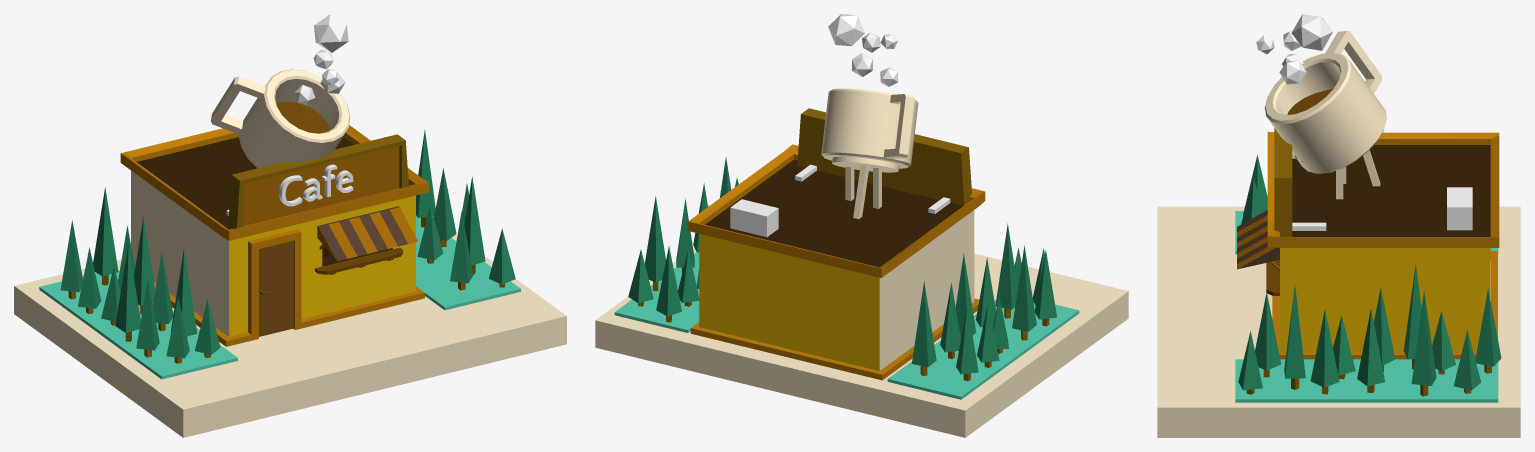
The picture shows the model from 3 angles, left to right: view 1: azimuth 30°, elevation 25°; view 2: azimuth 150°, elevation 25°; view 3: azimuth 270°, elevation 25°; orthographic projection. The views are drawn at different scales.
Visible parts, largest first — view 1: pCube66, pCube67, pCube65, pCylinder7, pCube70, pCube45, pCube68, pCube42, pCube63, pCube46, typeMesh2, pPyramid24 (+19 smaller); view 2: pCube67, pCube66, pCylinder7, pCube65, pCube70, pCube45, pCube68, pCube63, pCube62, pPyramid16, pPyramid24, pPyramid3 (+13 smaller); view 3: pCube66, pCube67, pCylinder7, pCube63, pCube70, pCube65, pCube42, pPyramid3, pCube68, pPyramid14, pPyramid5, pPyramid13 (+15 smaller).
Boxes of the visible parts, x1=… form: pCube66: x1=14, y1=234, x2=566, y2=437; pCube67: x1=131, y1=136, x2=415, y2=336; pCube65: x1=228, y1=134, x2=408, y2=229; pCylinder7: x1=211, y1=69, x2=350, y2=168; pCube70: x1=120, y1=125, x2=428, y2=240; pCube45: x1=39, y1=270, x2=237, y2=379; pCube68: x1=154, y1=229, x2=424, y2=346; pCube42: x1=317, y1=206, x2=418, y2=261; pCube63: x1=416, y1=215, x2=520, y2=310; pCube46: x1=259, y1=240, x2=293, y2=336; typeMesh2: x1=279, y1=164, x2=353, y2=206; pPyramid24: x1=115, y1=244, x2=140, y2=332; pCube67: x1=699, y1=159, x2=974, y2=370; pCube66: x1=595, y1=248, x2=1128, y2=437; pCylinder7: x1=821, y1=88, x2=918, y2=172; pCube65: x1=797, y1=108, x2=971, y2=205; pCube70: x1=688, y1=144, x2=985, y2=277; pCube45: x1=887, y1=300, x2=1079, y2=399; pCube68: x1=690, y1=298, x2=979, y2=380; pCube63: x1=614, y1=252, x2=699, y2=332; pCube62: x1=730, y1=199, x2=778, y2=237; pPyramid16: x1=911, y1=281, x2=936, y2=367; pPyramid24: x1=1012, y1=245, x2=1036, y2=331; pPyramid3: x1=645, y1=196, x2=665, y2=282; pCube66: x1=1157, y1=206, x2=1520, y2=437; pCube67: x1=1280, y1=145, x2=1490, y2=352; pCylinder7: x1=1264, y1=31, x2=1386, y2=173; pCube63: x1=1235, y1=359, x2=1498, y2=402; pCube70: x1=1267, y1=131, x2=1499, y2=247; pCube65: x1=1274, y1=128, x2=1292, y2=236; pCube42: x1=1237, y1=210, x2=1279, y2=269; pPyramid3: x1=1411, y1=290, x2=1436, y2=385; pCube68: x1=1272, y1=251, x2=1497, y2=359; pPyramid14: x1=1310, y1=309, x2=1339, y2=387; pPyramid5: x1=1357, y1=308, x2=1384, y2=386; pPyramid13: x1=1255, y1=292, x2=1281, y2=370.
Size of the model in its own units: 12.69 by 9.93 by 9.7.
